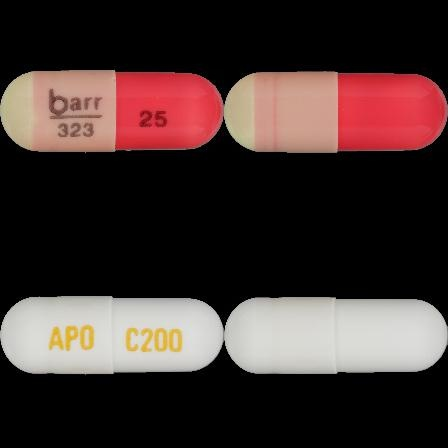61919-357: (0, 0, 224, 224)
